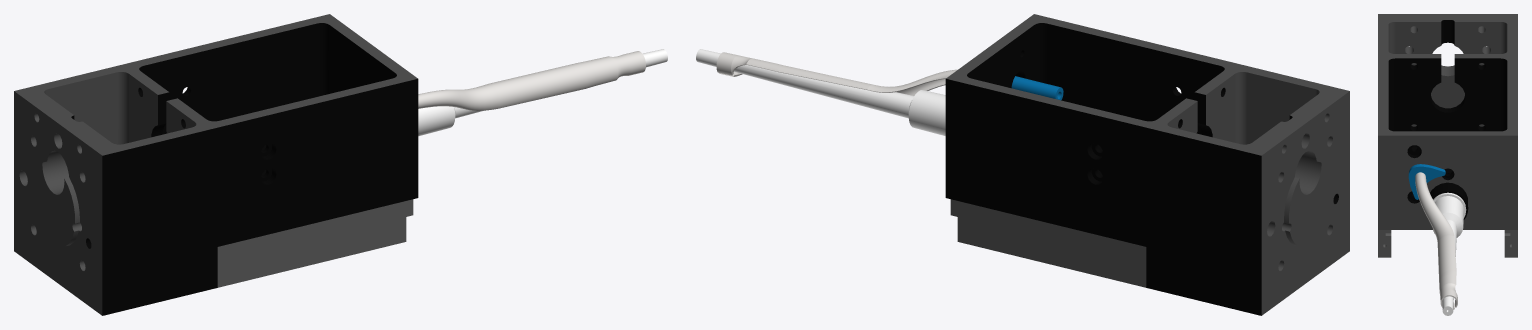
Rendered from pipette_simple.dae.
3 renders of one model, left to right at view 1: azimuth 30°, elevation 25°; view 2: azimuth 150°, elevation 25°; view 3: azimuth 270°, elevation 25°, orthographic. The views are drawn at different scales.
Visible parts, largest first — view 1: pipette_assembly; view 2: pipette_assembly; view 3: pipette_assembly.
Boxes of the visible parts, left/top/right/bottom form: pipette_assembly: left=14, top=14, right=667, bottom=315; pipette_assembly: left=696, top=14, right=1349, bottom=315; pipette_assembly: left=1378, top=14, right=1517, bottom=315.
Bounding box in the file's own units: 0.2554 × 0.064 × 0.064.
